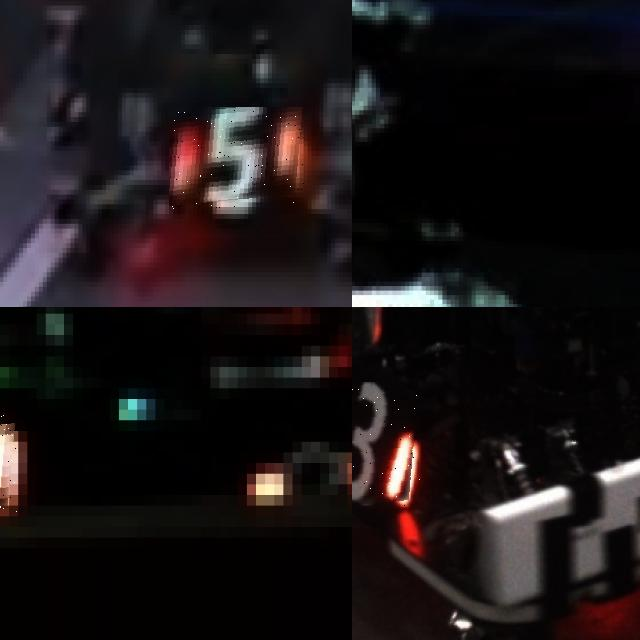R3: (352, 382, 419, 508)
R5: (169, 108, 304, 210)
Rs: (0, 398, 18, 516)
